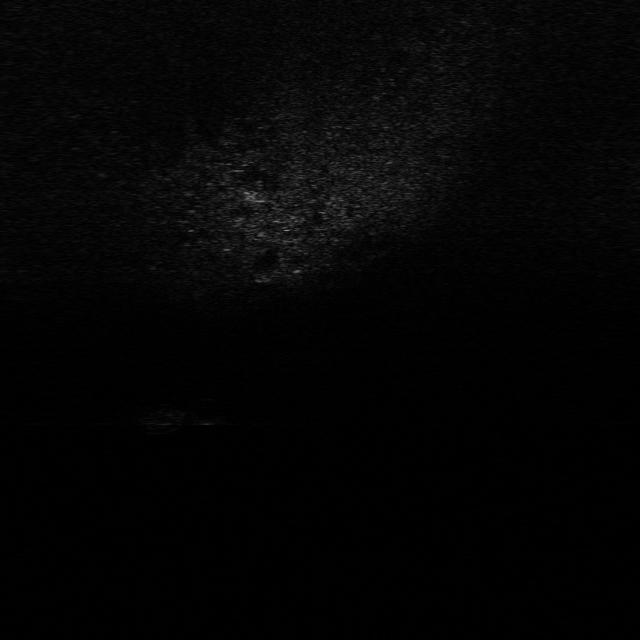ball: (194, 396, 228, 426)
circle cage: (130, 400, 192, 436)
